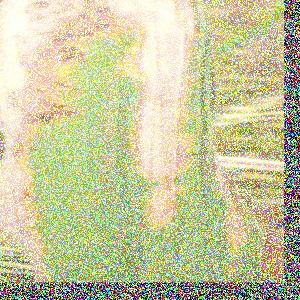Leaf_Blast: (0, 0, 204, 278)
